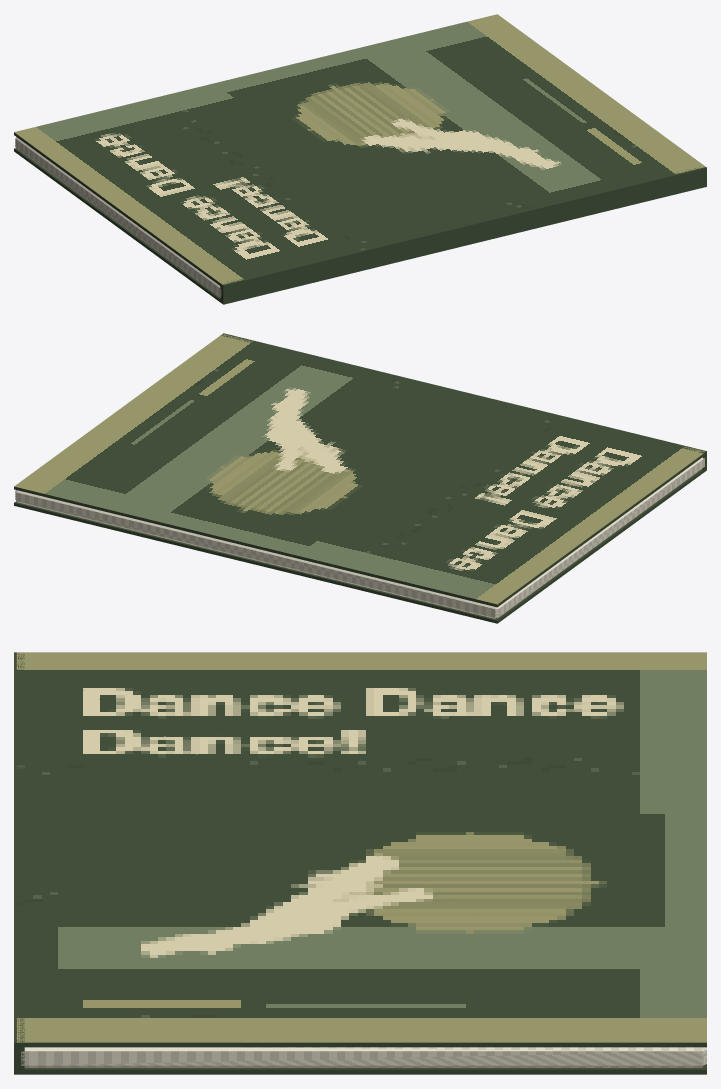
File: mag_dodge.glb
3 views of the same model, one above another, from view 1: azimuth 30°, elevation 25°; view 2: azimuth 150°, elevation 25°; view 3: azimuth 270°, elevation 25° (orthographic). The views are drawn at different scales.
Visible parts, largest first — view 1: block_front, block_spine, block_pages, block_back; view 2: block_front, block_pages, block_back, block_spine; view 3: block_front, block_pages, block_back, block_spine.
Boxes of the visible parts, <box> form: block_front: <box>14,14,705,287</box>; block_spine: <box>220,167,706,304</box>; block_pages: <box>15,137,221,297</box>; block_back: <box>14,148,222,303</box>; block_front: <box>14,334,706,607</box>; block_pages: <box>15,457,704,619</box>; block_back: <box>14,468,706,623</box>; block_spine: <box>220,333,706,470</box>; block_front: <box>16,652,706,1047</box>; block_pages: <box>21,1047,706,1067</box>; block_back: <box>16,1064,706,1074</box>; block_spine: <box>14,652,24,1074</box>.
Size of the model in its own units: 0.2154 by 0.00821 by 0.1617.
1 material, 1 textured.
